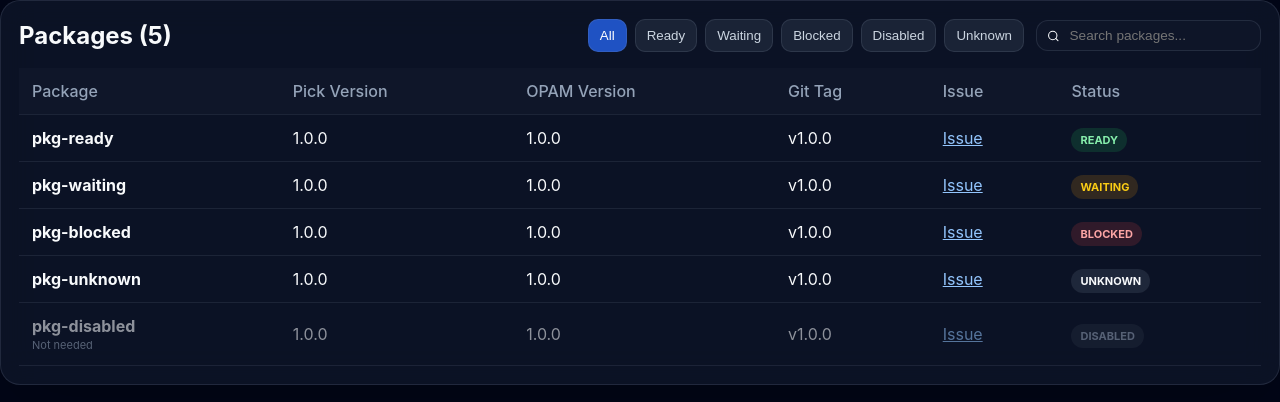
Test case: PackageTable › Filtering by status › should filter packages by blocked status
Click the button "Blocked". click: (817, 36)
box: [781,19,852,52]
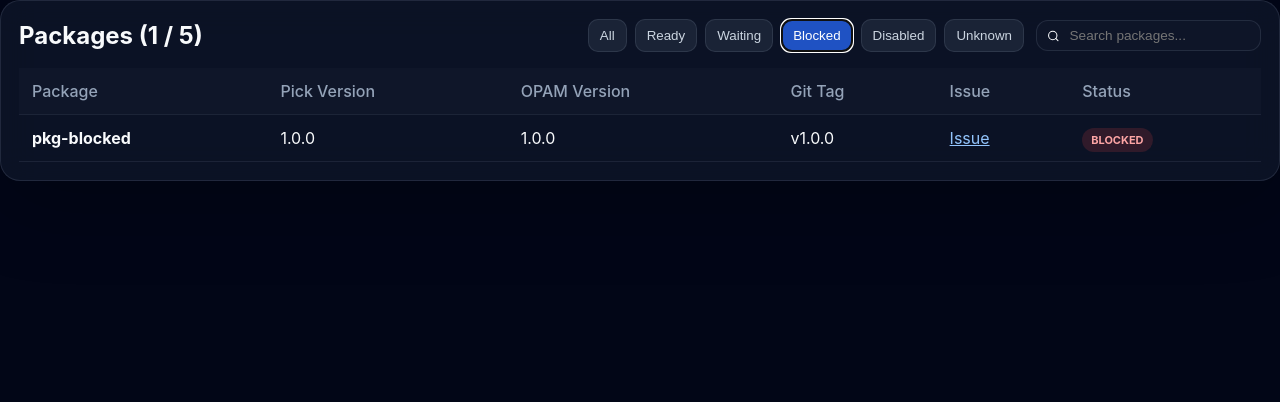
Check: the text "pkg-blocked" is shown, box [32,128,131,148]
Check: the text "pkg-ready" is gone
